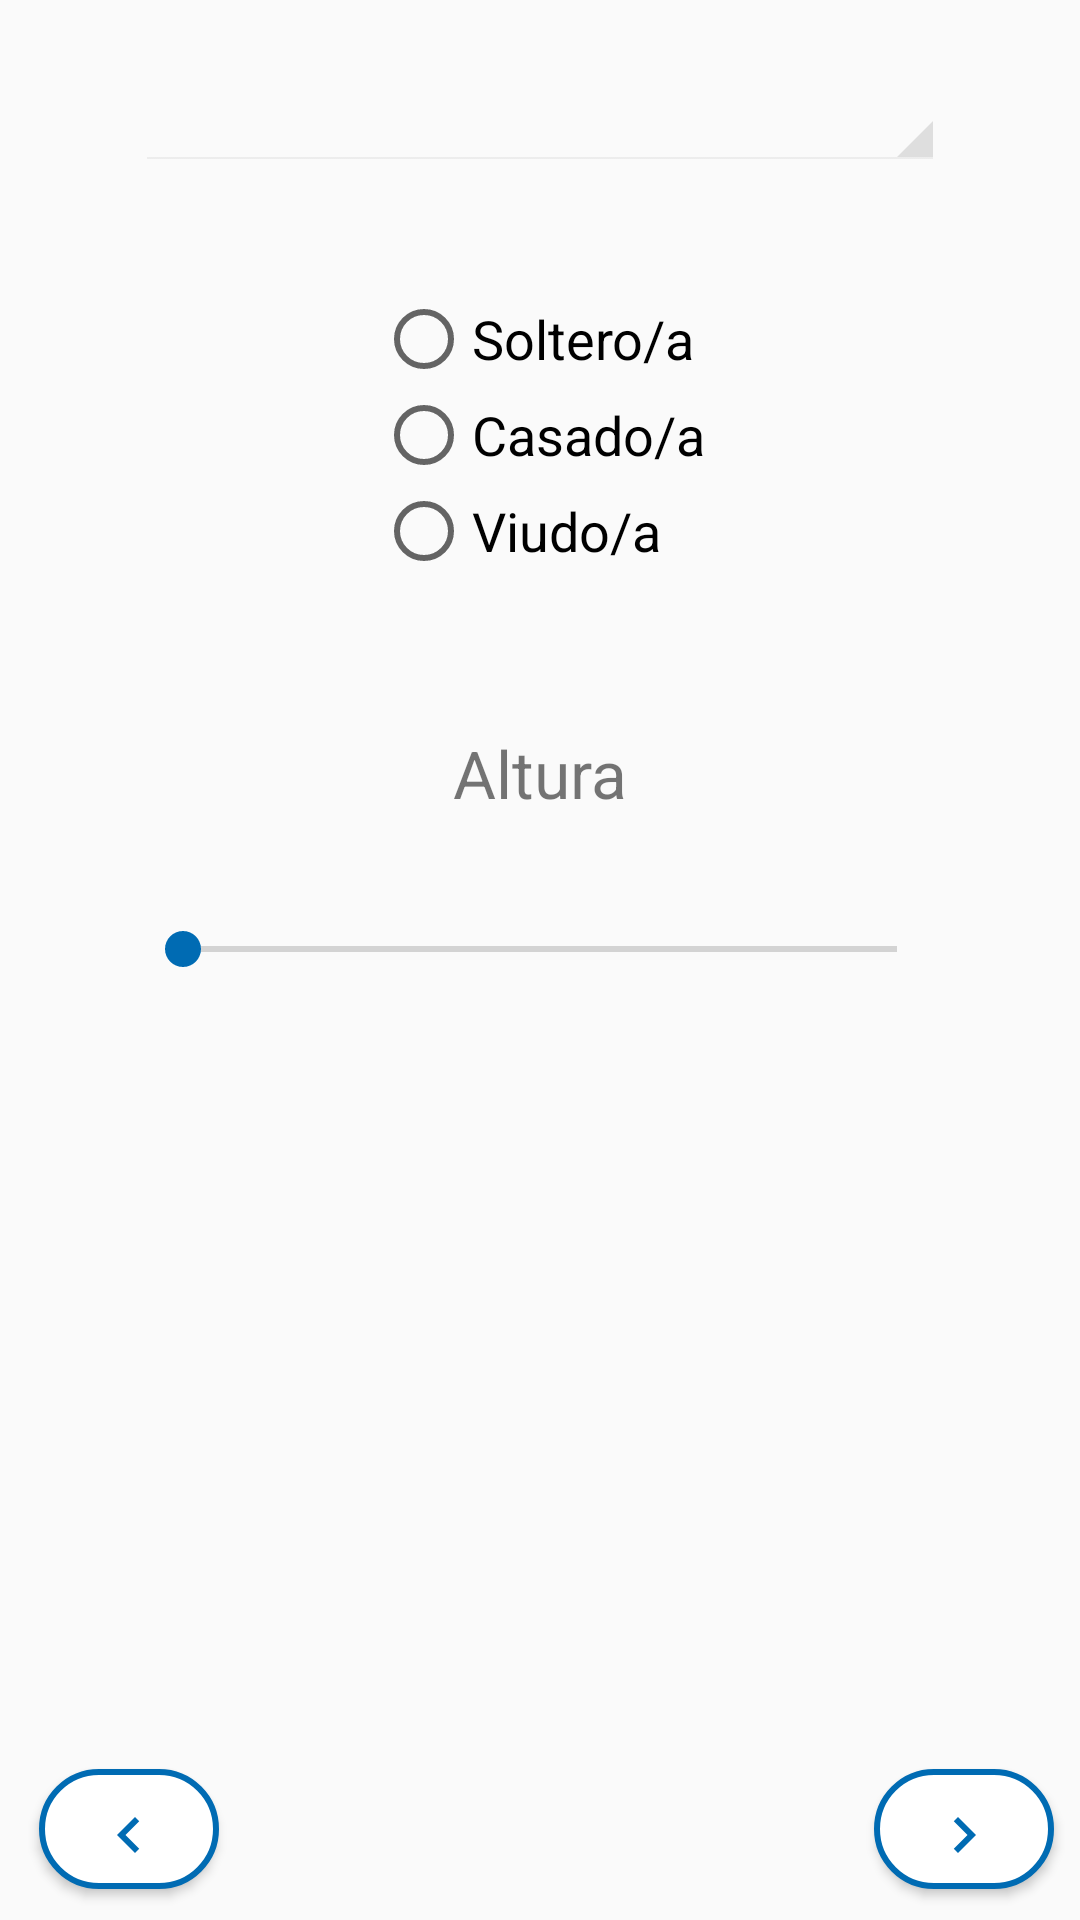

Where to tap for icons on this 1080px x 1920px app screen, as [x,y]:
botonsecundario: [129,1829], [964,1829]
